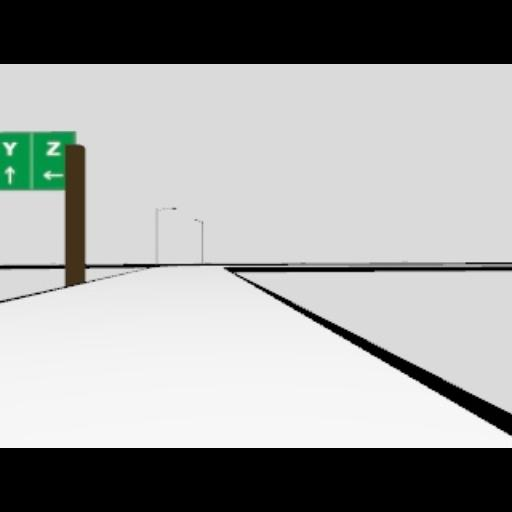Left: (42, 169, 62, 179)
Straight: (4, 165, 14, 183)
Y: (2, 141, 16, 155)
Z: (45, 141, 61, 155)
